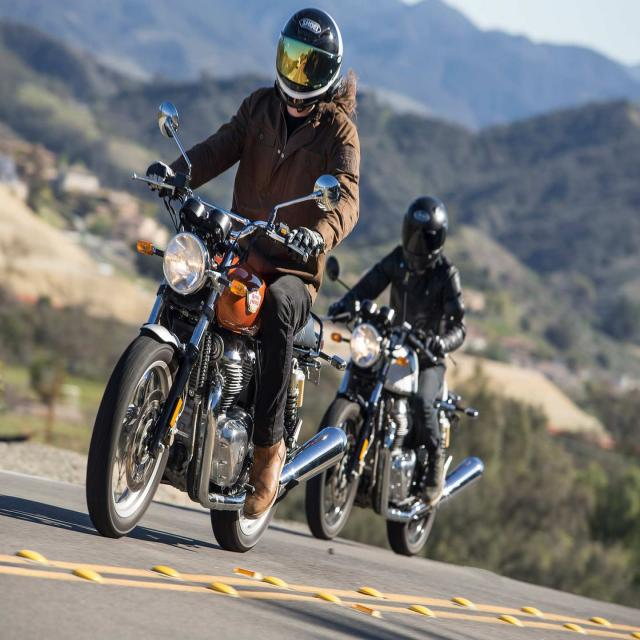With Helmet: (80, 6, 362, 563), (322, 174, 493, 555)
